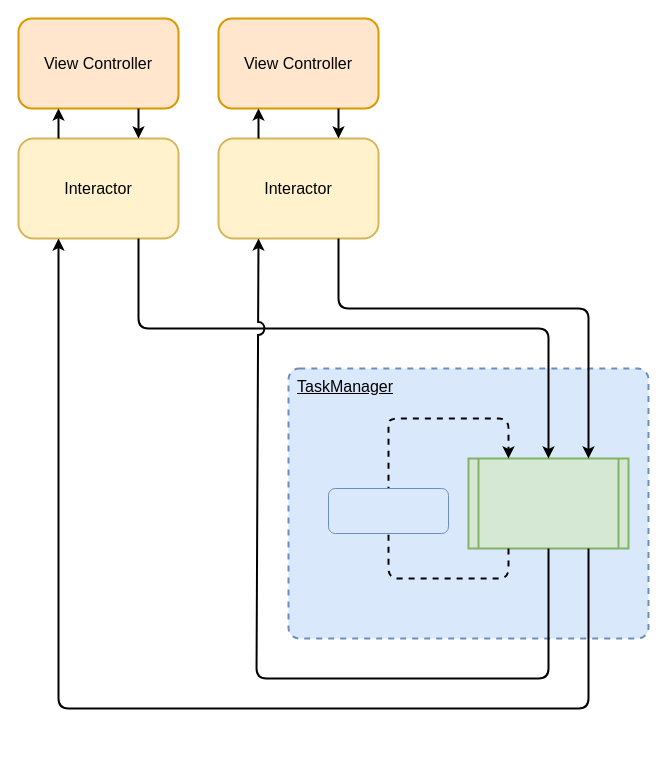
Image size: 666x774. Some labels were removed from this diagram. The centre of each missing label's shape, as x and y in pixels:
Operation: pixel 548 503
retry if recoverable error: pixel 388 511
